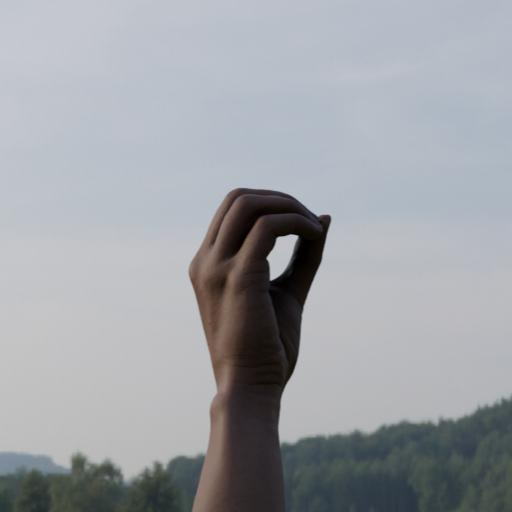O: (184, 183, 334, 396)
